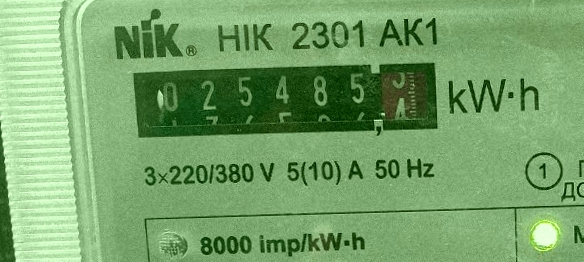0: (159, 78, 181, 114)
2: (198, 77, 219, 112)
4: (271, 72, 293, 106), (391, 94, 410, 123)
5: (346, 70, 368, 107), (234, 73, 255, 108)
8: (310, 71, 331, 109)
screen: (124, 54, 447, 150)
